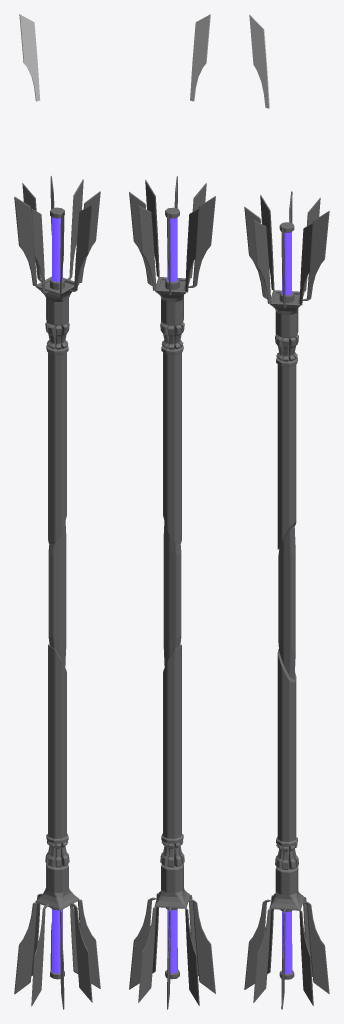
The model's file is WEA_Errai_Mesh.fbx.
3 views of the same model, side by side, from view 1: azimuth 30°, elevation 25°; view 2: azimuth 150°, elevation 25°; view 3: azimuth 330°, elevation 25° (orthographic).
Visible parts, largest first — view 1: Cylinder.001, Plane; view 2: Cylinder.001, Plane; view 3: Cylinder.001, Plane.
Boxes of the visible parts, x1=… form: Cylinder.001: x1=14, y1=176, x2=100, y2=1009; Plane: x1=19, y1=14, x2=40, y2=101; Cylinder.001: x1=129, y1=176, x2=215, y2=1009; Plane: x1=190, y1=14, x2=210, y2=101; Cylinder.001: x1=244, y1=191, x2=329, y2=1009; Plane: x1=249, y1=14, x2=269, y2=108.
Size of the model in its own units: 58.8 by 758 by 56.62.
